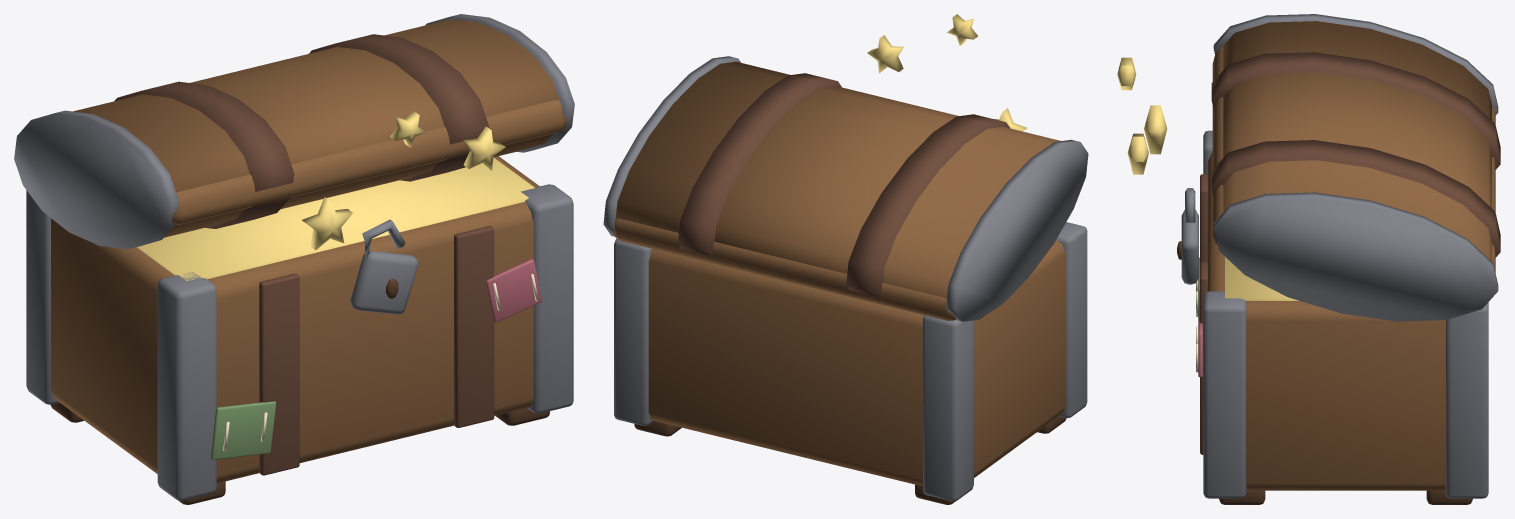
The model's file is odd-chest.glb.
3 renders of one model, left to right at view 1: azimuth 30°, elevation 25°; view 2: azimuth 150°, elevation 25°; view 3: azimuth 270°, elevation 25°, orthographic. The views are drawn at different scales.
Visible parts, largest first — view 1: chest, lid, stars; view 2: lid, chest, stars; view 3: lid, chest, stars.
Part boxes in pixels (box(x1,y1,x2,y2)): chest: box(26, 156, 573, 504); lid: box(14, 14, 574, 249); stars: box(301, 111, 505, 250); lid: box(603, 56, 1088, 321); chest: box(614, 222, 1087, 504); stars: box(867, 14, 1027, 131); lid: box(1211, 14, 1500, 321); chest: box(1177, 130, 1488, 504); stars: box(1117, 57, 1167, 174).
Bounding box in the file's own units: 0.752 × 0.6848 × 0.6647.
